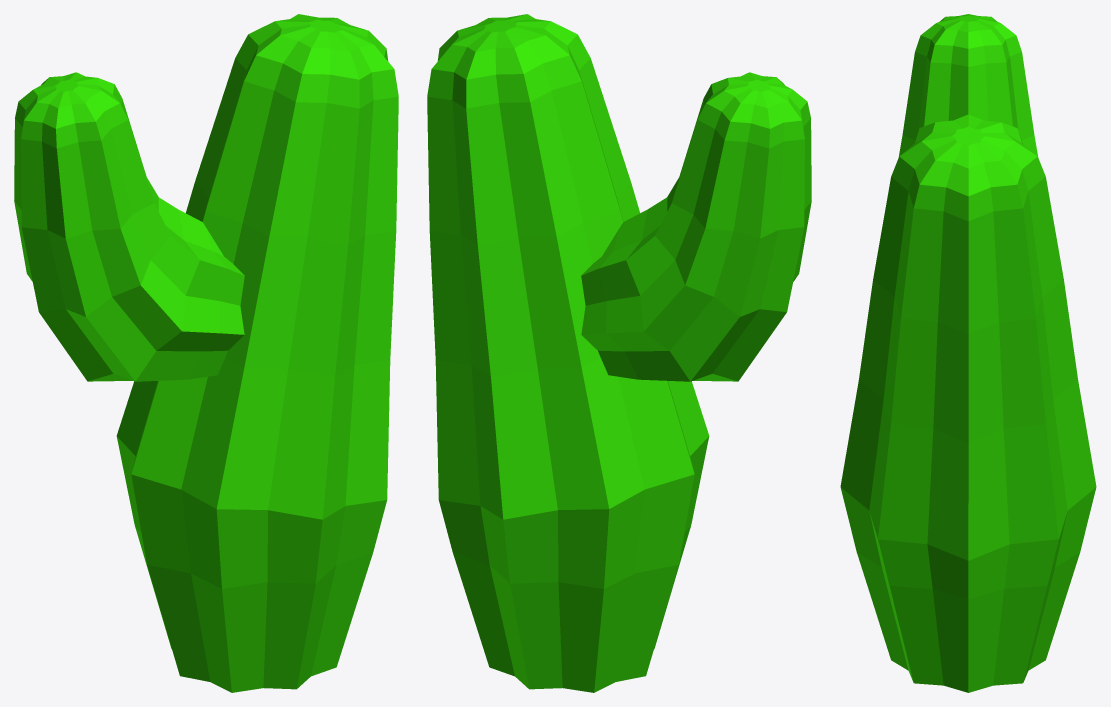
Rendered from cactus5.fbx.
The picture shows the model from 3 angles, left to right: view 1: azimuth 30°, elevation 25°; view 2: azimuth 150°, elevation 25°; view 3: azimuth 270°, elevation 25°; orthographic projection. The views are drawn at different scales.
Parts seen in each view (by area): view 1: Cylinder.001, Cylinder; view 2: Cylinder.001, Cylinder; view 3: Cylinder.001, Cylinder.
Boxes of the visible parts, x1,y1,x2,y2 form: Cylinder.001: [116, 14, 398, 692]; Cylinder: [14, 72, 244, 381]; Cylinder.001: [427, 14, 709, 692]; Cylinder: [581, 72, 811, 381]; Cylinder.001: [840, 114, 1096, 692]; Cylinder: [899, 14, 1037, 156].
Size of the model in its own units: 498 by 799 by 331.
